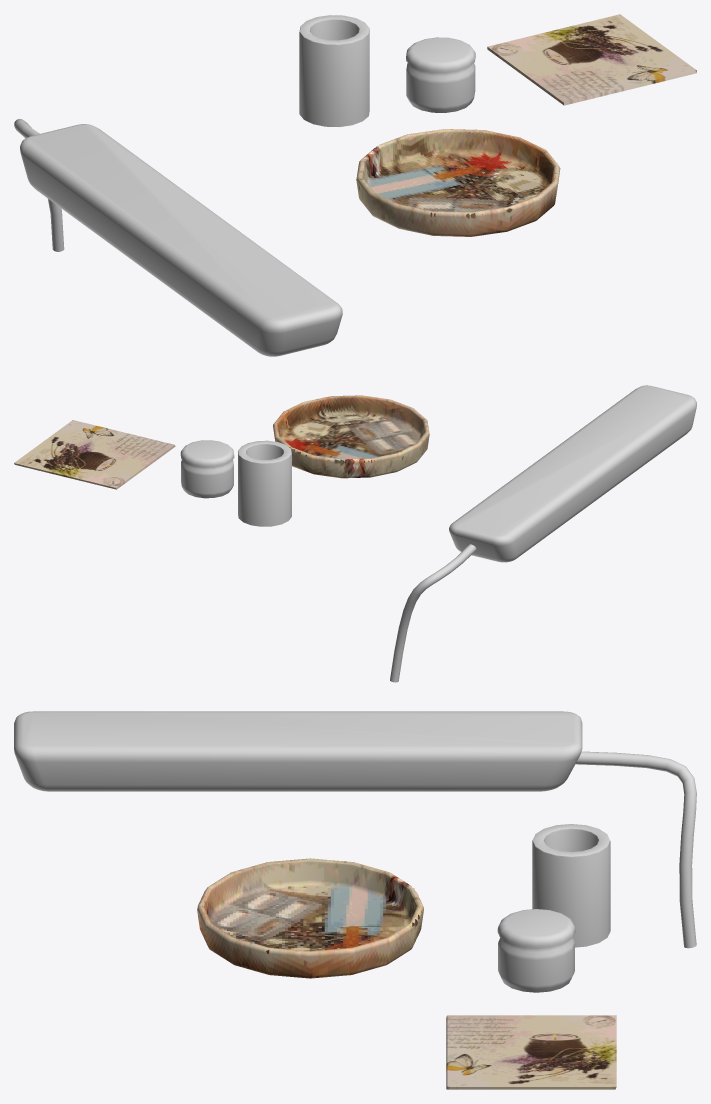
Rendered from cosa mesa de luz.fbx.
3 views of the same model, one above another, from view 1: azimuth 30°, elevation 25°; view 2: azimuth 150°, elevation 25°; view 3: azimuth 270°, elevation 25° (orthographic). The views are drawn at different scales.
Visible parts, largest first — view 1: zapatilla_velador, cecicero02, posa_vaso, vela01, vela02; view 2: zapatilla_velador, cecicero02, posa_vaso, vela01, vela02; view 3: zapatilla_velador, cecicero02, posa_vaso, vela01, vela02.
Boxes of the visible parts, x1,y1,x2,y2 form: zapatilla_velador: (14,119,342,356); cecicero02: (356,129,560,236); posa_vaso: (487,14,696,105); vela01: (299,15,369,126); vela02: (406,37,475,112); zapatilla_velador: (390,385,696,682); cecicero02: (273,395,429,478); posa_vaso: (14,420,175,489); vela01: (238,440,291,526); vela02: (180,440,234,498); zapatilla_velador: (14,711,696,948); cecicero02: (197,858,423,978); posa_vaso: (446,1015,616,1089); vela01: (532,824,610,947); vela02: (497,909,575,992).
Bounding box in the file's own units: 0.3966 × 0.1247 × 0.3408.
